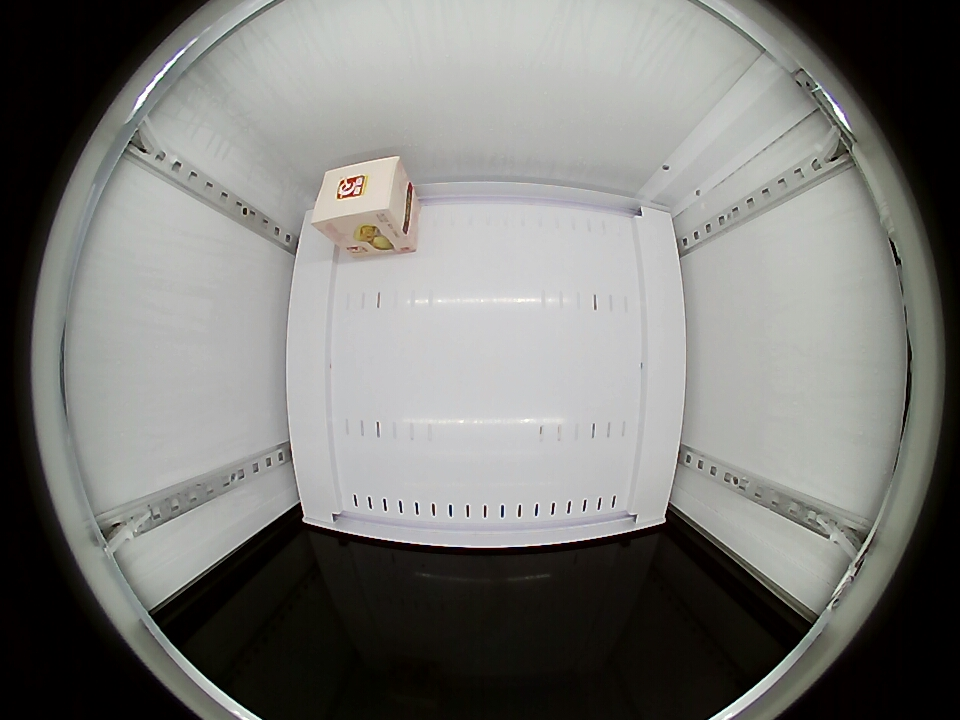rousongbing: (311, 155, 410, 246)
